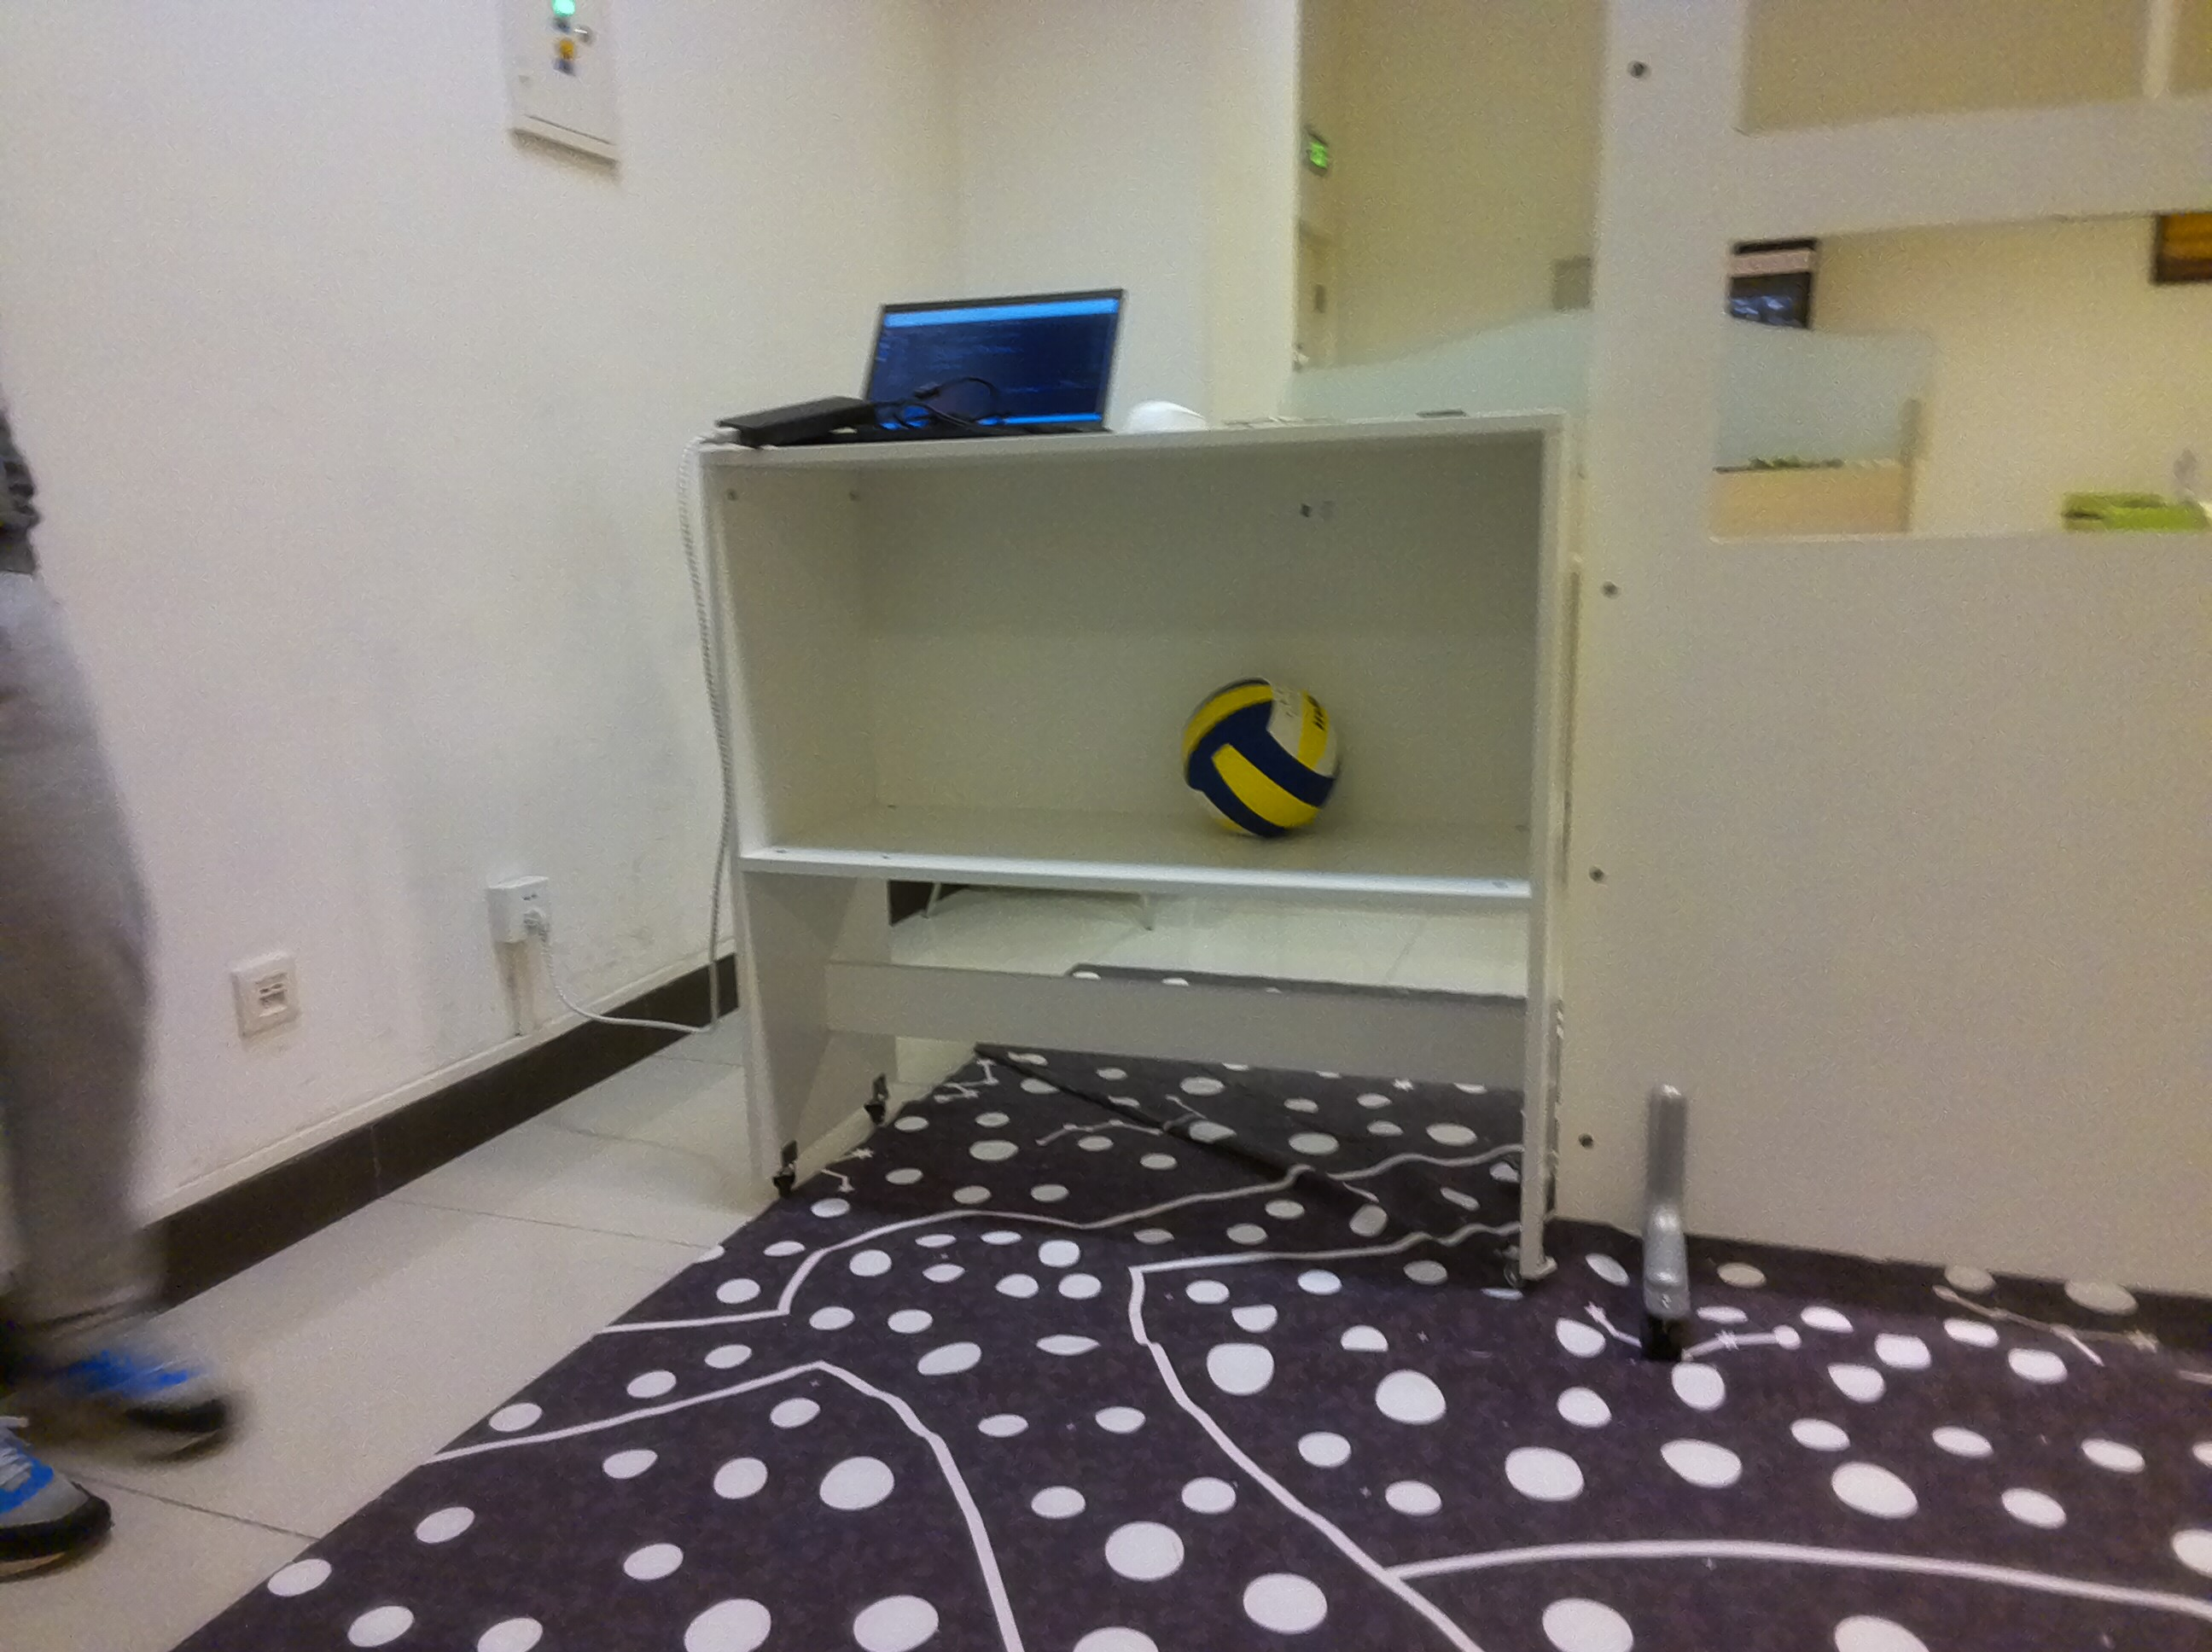volleyball: (1176, 661, 1350, 845)
